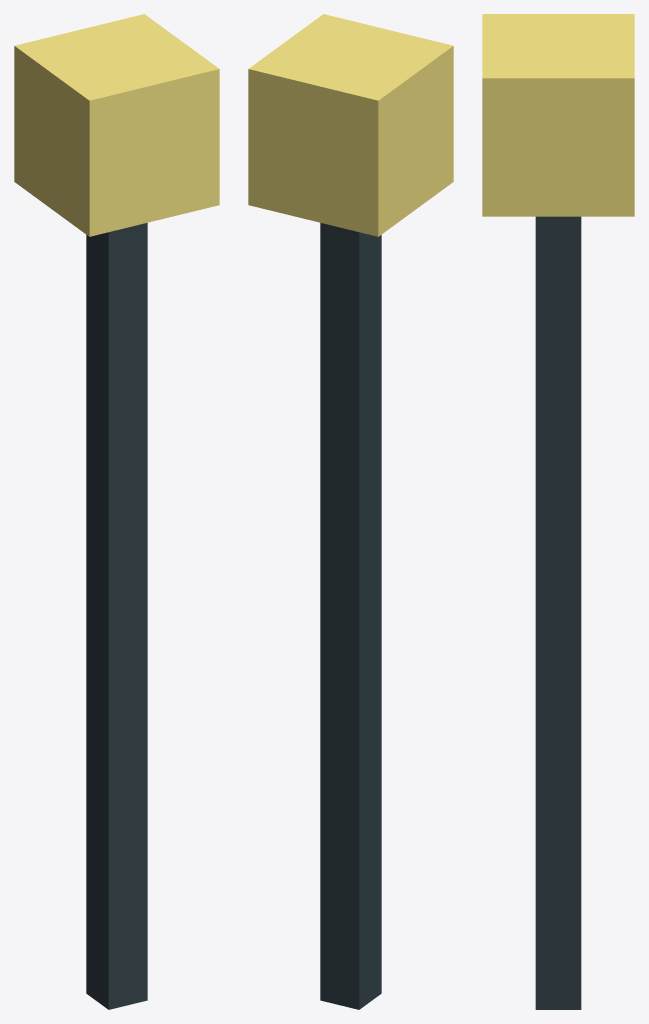
The model's file is lantern_post.obj.
3 renders of one model, left to right at view 1: azimuth 30°, elevation 25°; view 2: azimuth 150°, elevation 25°; view 3: azimuth 270°, elevation 25°, orthographic.
Bounding box in the file's own units: 0.5 × 3.45 × 0.5.
